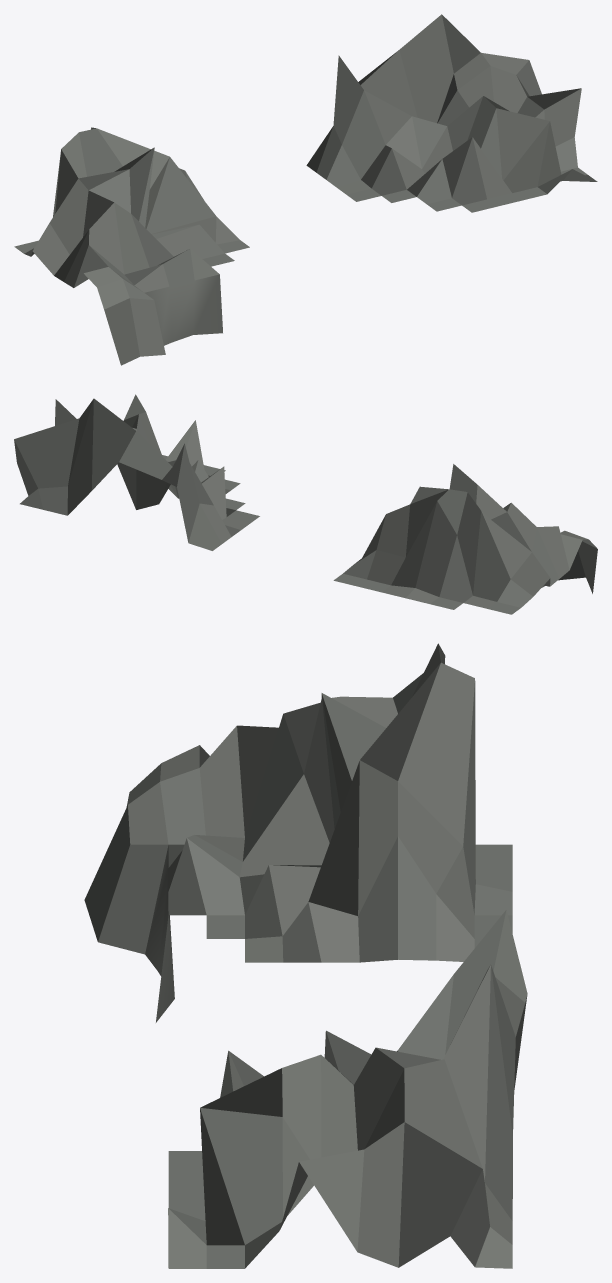
The model's file is Mountain.fbx.
The picture shows the model from 3 angles, top to bottom: view 1: azimuth 30°, elevation 25°; view 2: azimuth 150°, elevation 25°; view 3: azimuth 270°, elevation 25°; orthographic projection. The views are drawn at different scales.
Parts seen in each view (by area): view 1: pPlane1; view 2: pPlane1; view 3: pPlane1.
Part boxes in pixels (x1,y1,x2,y2): pPlane1: (14, 14, 597, 365); pPlane1: (14, 394, 597, 614); pPlane1: (84, 643, 527, 1268).
Size of the model in its own units: 35.38 by 11.41 by 13.28.
1 material, 1 textured.
